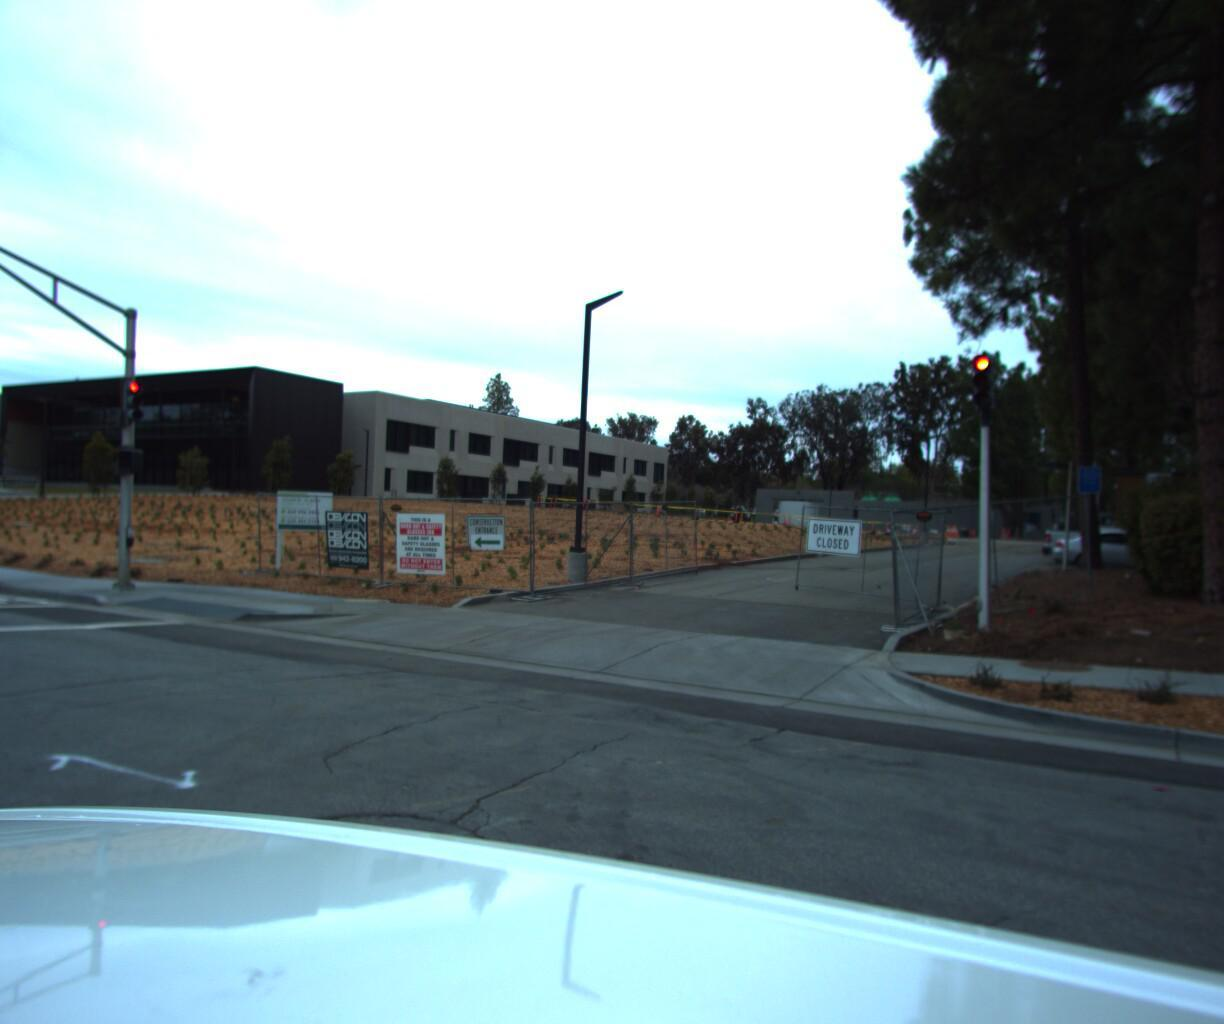car: (1037, 500, 1217, 569), (1044, 520, 1197, 574)
